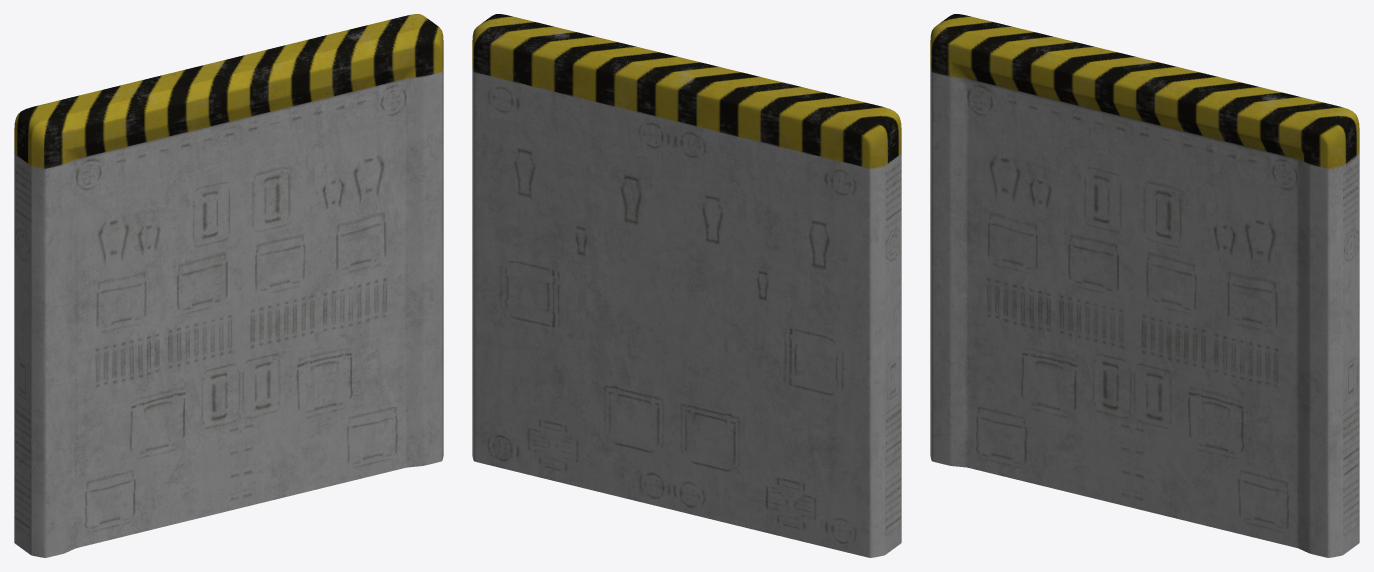
The model's file is door.dae.
3 views of the same model, side by side, from view 1: azimuth 30°, elevation 25°; view 2: azimuth 150°, elevation 25°; view 3: azimuth 330°, elevation 25° (orthographic).
Parts seen in each view (by area): view 1: door; view 2: door; view 3: door.
Part boxes in pixels (bbox=[...]): door: bbox=[14, 14, 443, 557]; door: bbox=[472, 14, 901, 557]; door: bbox=[930, 14, 1359, 557].
Bounding box in the file's own units: 2 × 0.25 × 2.
Materials: 1 (1 with a texture image).
